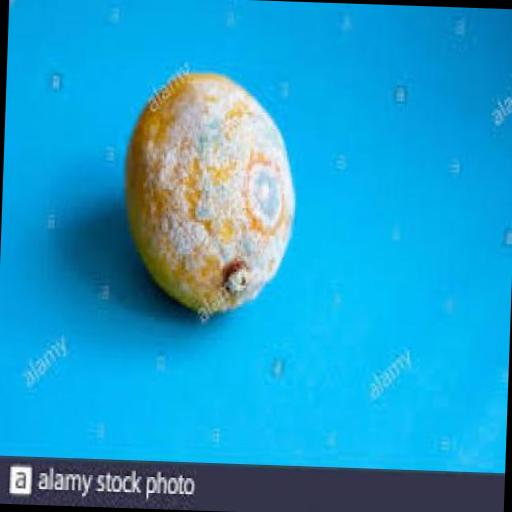biodegradable: (119, 68, 296, 311)
